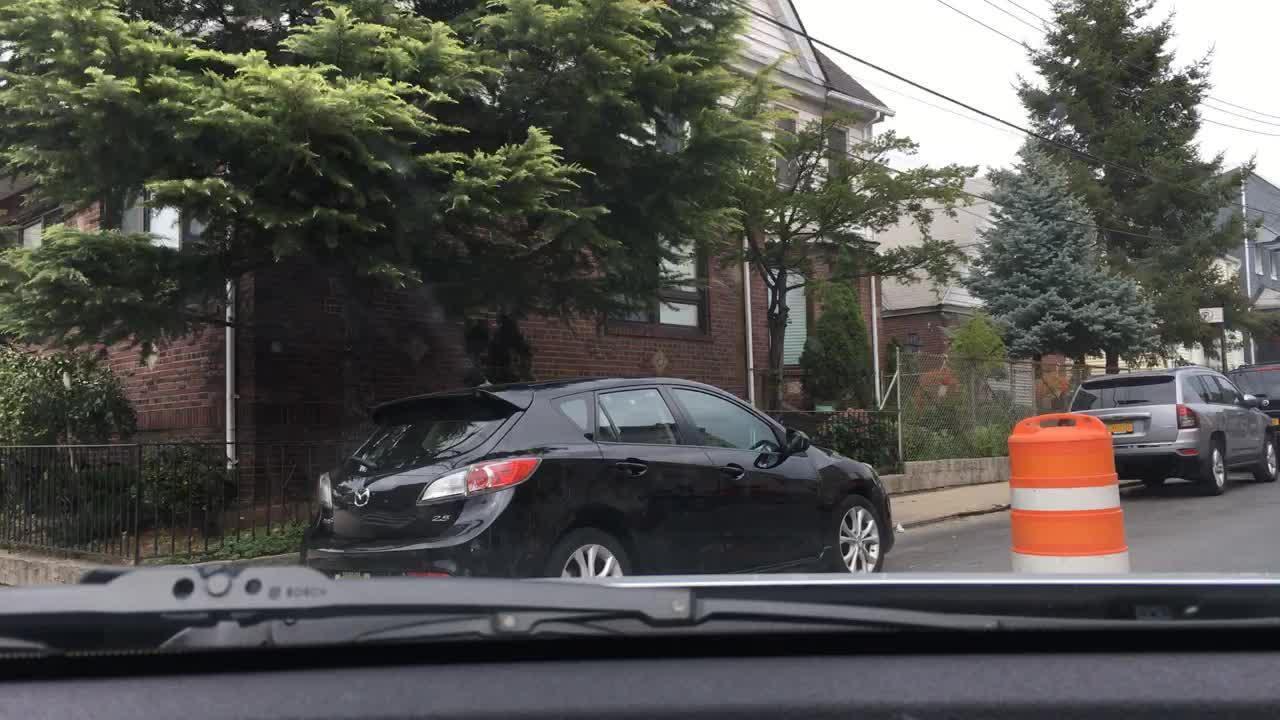Mazda: (347, 483, 375, 506)
